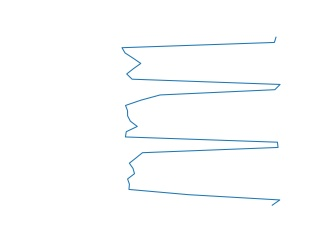majorRiverChannelBar: (119, 35, 283, 209)
